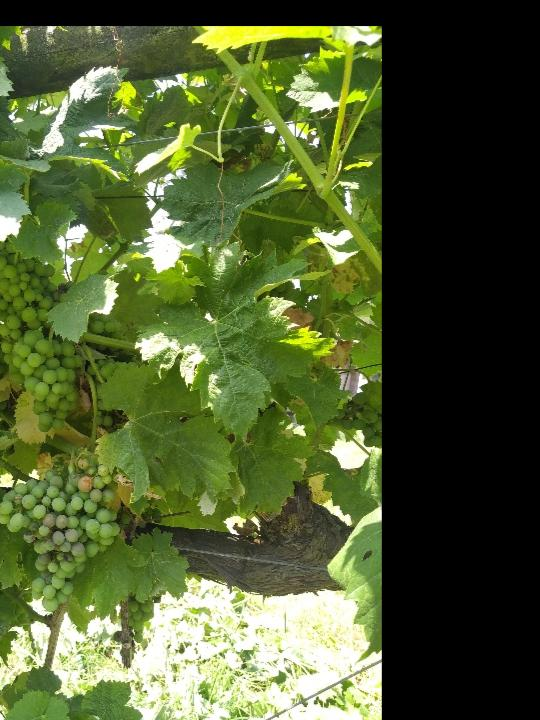grape: (0, 450, 132, 615), (0, 249, 89, 432)
